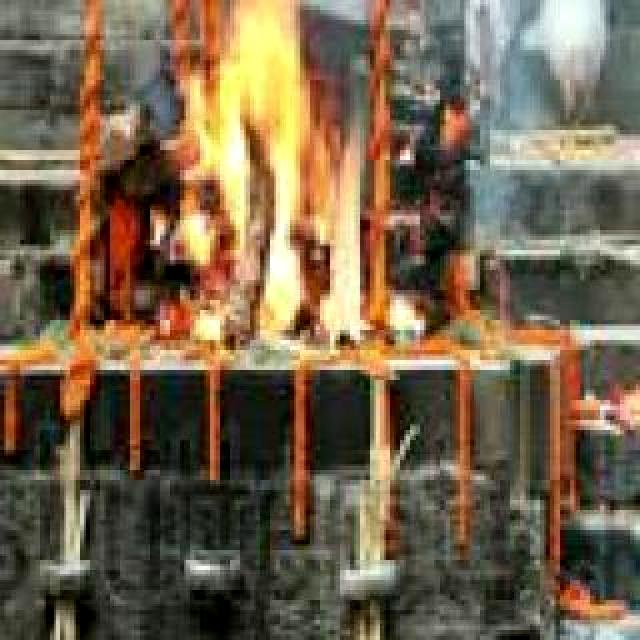fire: (170, 0, 388, 330)
